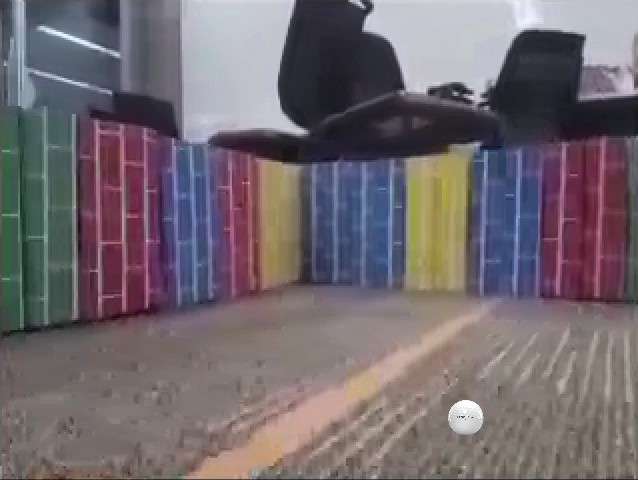bottle: (548, 225, 599, 409)
